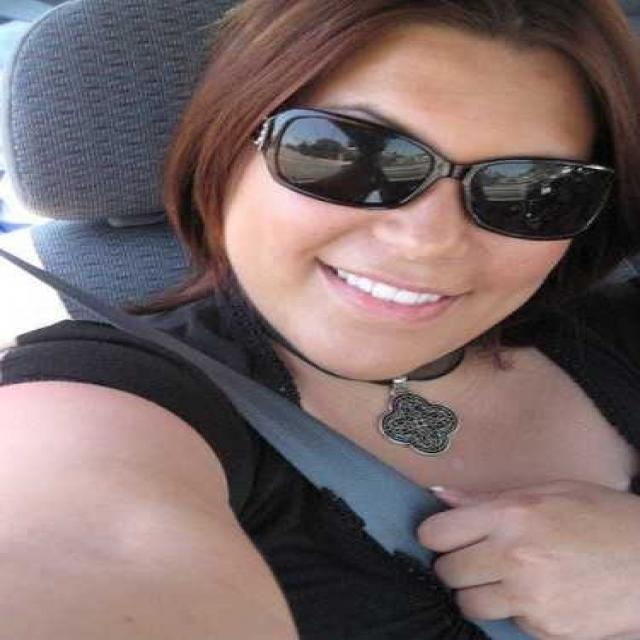seatbelt: (29, 253, 524, 564)
